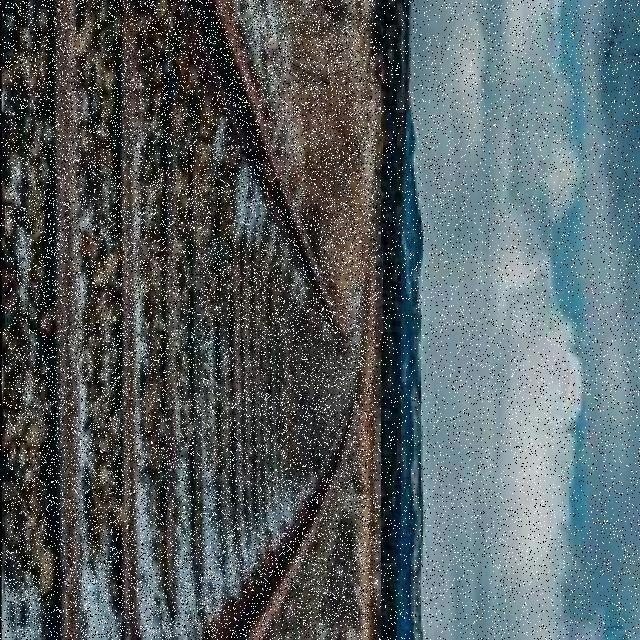rail: (7, 2, 378, 639)
